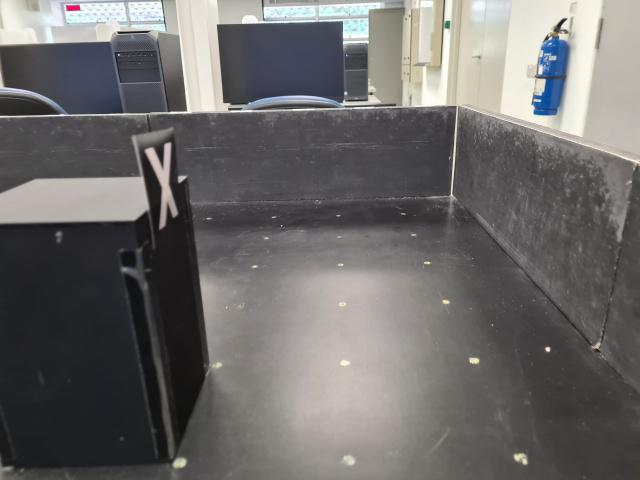x: (131, 127, 188, 248)
